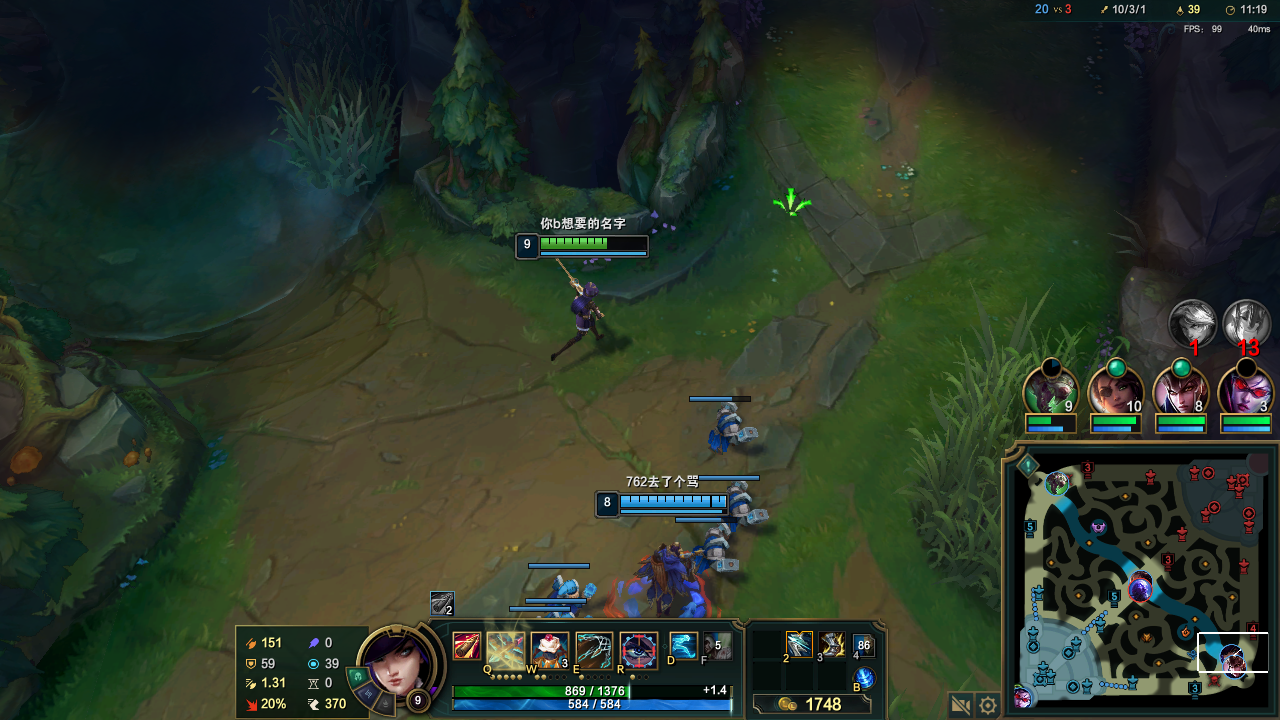WFXB: (706, 405, 755, 448), (693, 533, 739, 577), (725, 486, 755, 524), (548, 575, 586, 605)
